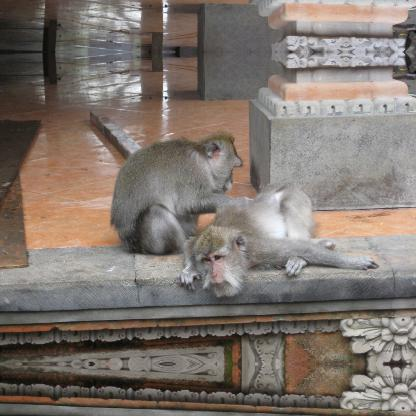Monkey: (180, 183, 374, 297), (110, 131, 242, 255)
